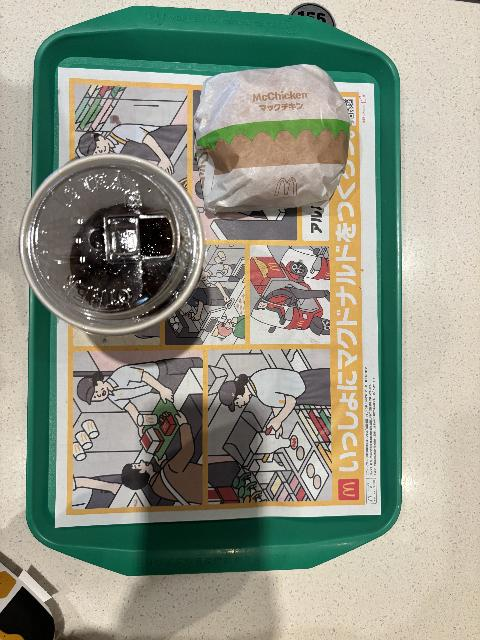burger: (194, 64, 354, 214)
drink: (21, 157, 203, 333)
